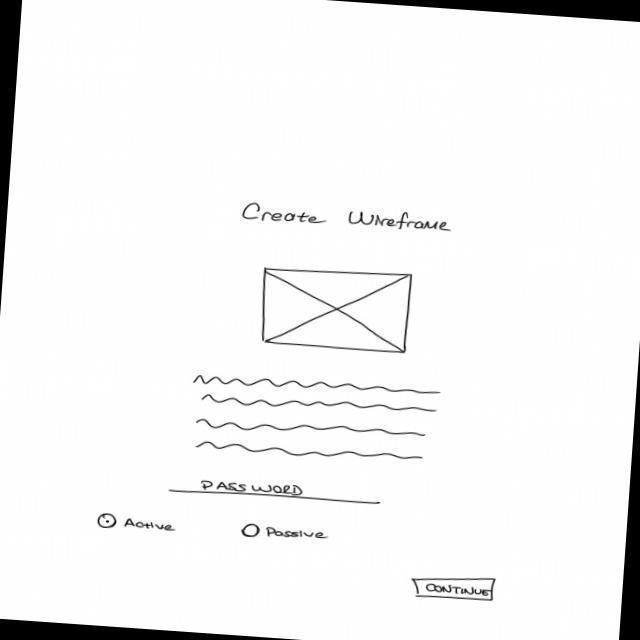button: (411, 572, 497, 605)
image: (257, 262, 417, 355)
input: (168, 475, 383, 508)
label: (240, 200, 453, 236)
radio: (97, 513, 120, 534), (240, 522, 263, 543)
textbox: (187, 372, 443, 469)
